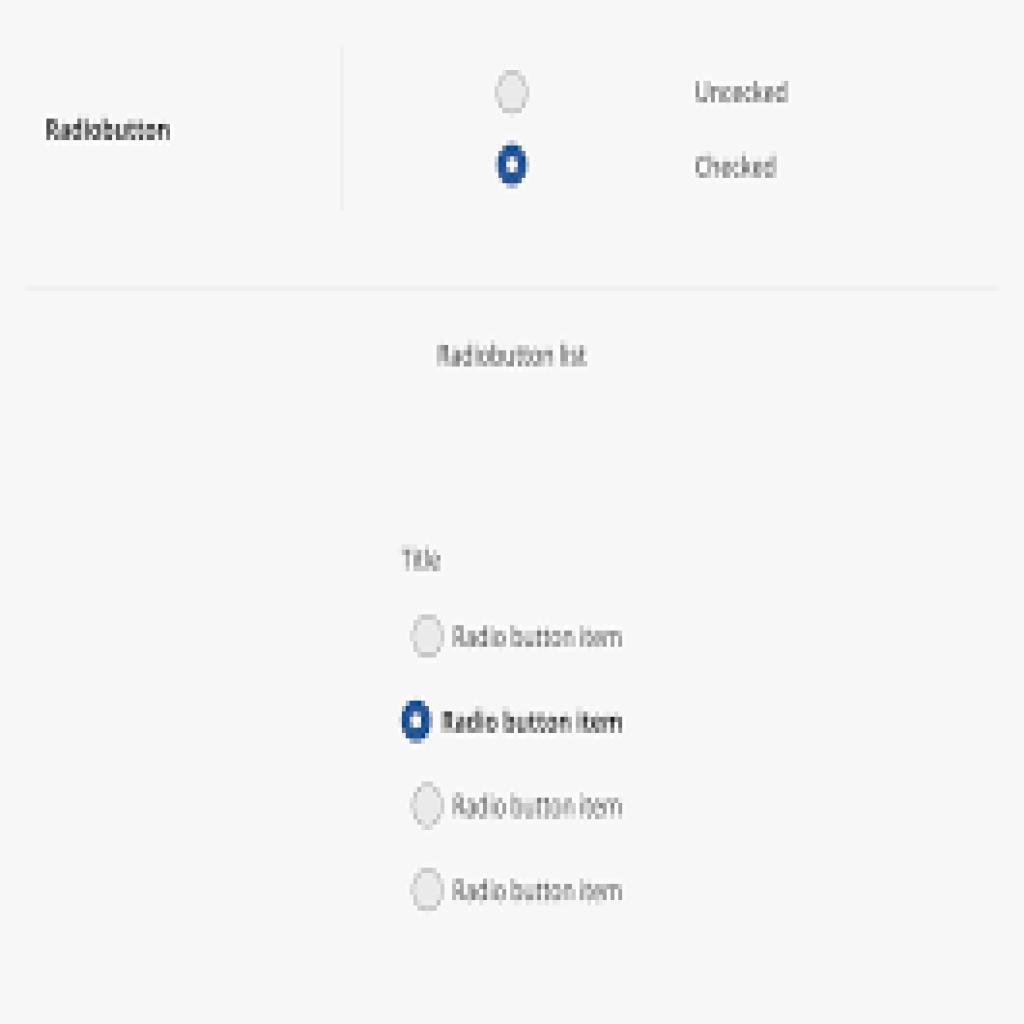label: (448, 789, 628, 824), (452, 874, 627, 910), (438, 708, 628, 740), (446, 622, 635, 654), (691, 151, 789, 182), (695, 78, 793, 108)
radio: (409, 852, 449, 933), (494, 138, 533, 196), (408, 777, 447, 835), (493, 66, 535, 119), (408, 611, 447, 666), (400, 692, 433, 750)
